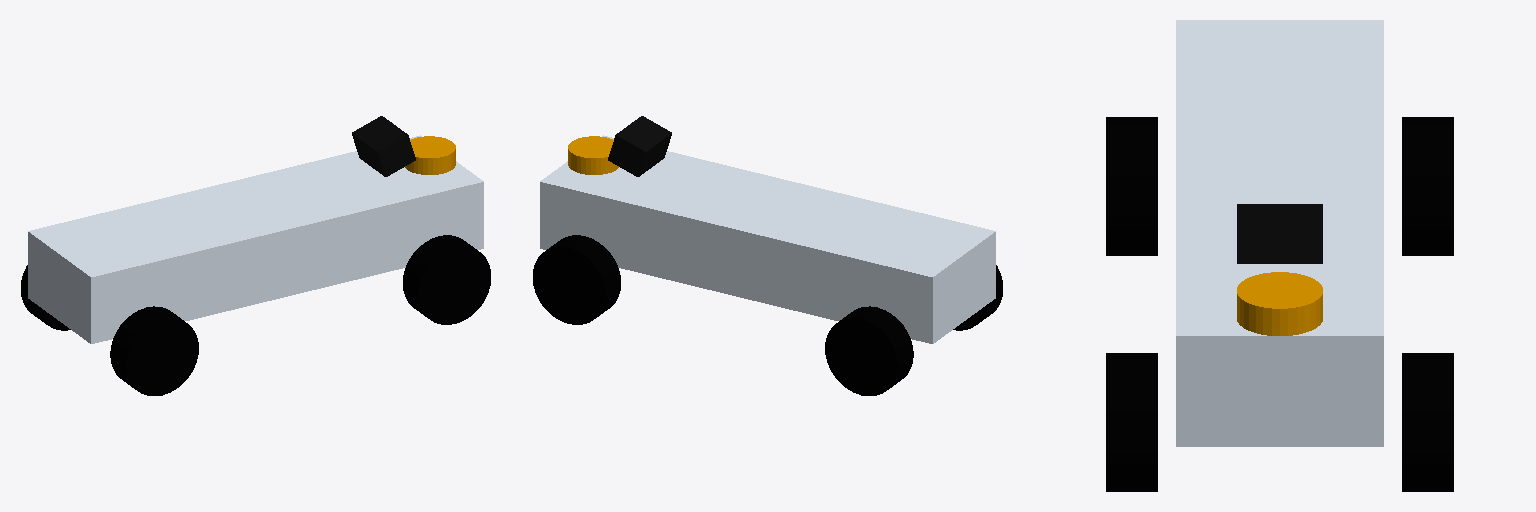
robot.urdf — team11_car:
<?xml version="1.0" ?>
<!-- =================================================================================== -->
<!-- |    This document was autogenerated by xacro from src/team/team_11/src/team11_race/urdf/car.urdf.xacro | -->
<!-- |    EDITING THIS FILE BY HAND IS NOT RECOMMENDED                                 | -->
<!-- =================================================================================== -->
<robot name="team11_car">
  <!-- base_link: 3D geometric center of the full vehicle AABB (0.085 m above ground). -->
  <link name="base_link"/>
  <joint name="body_joint" type="fixed">
    <parent link="base_link"/>
    <child link="body"/>
    <origin xyz="0 0 0"/>
  </joint>
  <link name="body">
    <visual>
      <geometry>
        <box size="0.43 0.12 0.07"/>
      </geometry>
      <material name="cool_off_white">
        <color rgba="0.902 0.941 0.980 1"/>
      </material>
    </visual>
    <collision>
      <geometry>
        <box size="0.43 0.12 0.07"/>
      </geometry>
    </collision>
    <inertial>
      <mass value="1.5"/>
      <inertia ixx="0.0024125" ixy="0" ixz="0" iyy="0.023725" iyz="0" izz="0.0249125"/>
    </inertial>
  </link>
  <link name="rear_left_wheel">
    <visual>
      <origin rpy="1.5707963268 0 0"/>
      <geometry>
        <cylinder length="0.03" radius="0.04"/>
      </geometry>
      <material name="black">
        <color rgba="0.02 0.02 0.02 1"/>
      </material>
    </visual>
    <collision>
      <origin rpy="1.5707963268 0 0"/>
      <geometry>
        <cylinder length="0.03" radius="0.04"/>
      </geometry>
    </collision>
    <inertial>
      <mass value="0.15"/>
      <inertia ixx="0.00007125" ixy="0" ixz="0" iyy="0.00012" iyz="0" izz="0.00007125"/>
    </inertial>
  </link>
  <gazebo reference="rear_left_wheel">
    <mu1>1.2</mu1>
    <mu2>1.0</mu2>
  </gazebo>
  <joint name="rear_left_wheel_joint" type="continuous">
    <parent link="base_link"/>
    <child link="rear_left_wheel"/>
    <origin xyz="-0.16 0.085 -0.045000000000000005"/>
    <axis xyz="0 1 0"/>
    <dynamics damping="0.0005"/>
  </joint>
  <link name="rear_right_wheel">
    <visual>
      <origin rpy="1.5707963268 0 0"/>
      <geometry>
        <cylinder length="0.03" radius="0.04"/>
      </geometry>
      <material name="black">
        <color rgba="0.02 0.02 0.02 1"/>
      </material>
    </visual>
    <collision>
      <origin rpy="1.5707963268 0 0"/>
      <geometry>
        <cylinder length="0.03" radius="0.04"/>
      </geometry>
    </collision>
    <inertial>
      <mass value="0.15"/>
      <inertia ixx="0.00007125" ixy="0" ixz="0" iyy="0.00012" iyz="0" izz="0.00007125"/>
    </inertial>
  </link>
  <gazebo reference="rear_right_wheel">
    <mu1>1.2</mu1>
    <mu2>1.0</mu2>
  </gazebo>
  <joint name="rear_right_wheel_joint" type="continuous">
    <parent link="base_link"/>
    <child link="rear_right_wheel"/>
    <origin xyz="-0.16 -0.085 -0.045000000000000005"/>
    <axis xyz="0 1 0"/>
    <dynamics damping="0.0005"/>
  </joint>
  <link name="front_left_steer">
    <inertial>
      <mass value="0.02"/>
      <inertia ixx="0.00001" ixy="0" ixz="0" iyy="0.00001" iyz="0" izz="0.00001"/>
    </inertial>
  </link>
  <joint name="front_left_steer_joint" type="revolute">
    <parent link="base_link"/>
    <child link="front_left_steer"/>
    <origin xyz="0.16 0.085 -0.045000000000000005"/>
    <axis xyz="0 0 1"/>
    <limit effort="10" lower="-0.5235987756" upper="0.5235987756" velocity="2"/>
    <dynamics damping="0.2"/>
  </joint>
  <link name="front_left_wheel">
    <visual>
      <origin rpy="1.5707963268 0 0"/>
      <geometry>
        <cylinder length="0.03" radius="0.04"/>
      </geometry>
      <material name="black">
        <color rgba="0.02 0.02 0.02 1"/>
      </material>
    </visual>
    <collision>
      <origin rpy="1.5707963268 0 0"/>
      <geometry>
        <cylinder length="0.03" radius="0.04"/>
      </geometry>
    </collision>
    <inertial>
      <mass value="0.15"/>
      <inertia ixx="0.00007125" ixy="0" ixz="0" iyy="0.00012" iyz="0" izz="0.00007125"/>
    </inertial>
  </link>
  <gazebo reference="front_left_wheel">
    <mu1>1.2</mu1>
    <mu2>1.0</mu2>
  </gazebo>
  <joint name="front_left_wheel_joint" type="continuous">
    <parent link="front_left_steer"/>
    <child link="front_left_wheel"/>
    <origin xyz="0 0 0"/>
    <axis xyz="0 1 0"/>
    <dynamics damping="0.0005"/>
  </joint>
  <link name="front_right_steer">
    <inertial>
      <mass value="0.02"/>
      <inertia ixx="0.00001" ixy="0" ixz="0" iyy="0.00001" iyz="0" izz="0.00001"/>
    </inertial>
  </link>
  <joint name="front_right_steer_joint" type="revolute">
    <parent link="base_link"/>
    <child link="front_right_steer"/>
    <origin xyz="0.16 -0.085 -0.045000000000000005"/>
    <axis xyz="0 0 1"/>
    <limit effort="10" lower="-0.5235987756" upper="0.5235987756" velocity="2"/>
    <dynamics damping="0.2"/>
  </joint>
  <link name="front_right_wheel">
    <visual>
      <origin rpy="1.5707963268 0 0"/>
      <geometry>
        <cylinder length="0.03" radius="0.04"/>
      </geometry>
      <material name="black">
        <color rgba="0.02 0.02 0.02 1"/>
      </material>
    </visual>
    <collision>
      <origin rpy="1.5707963268 0 0"/>
      <geometry>
        <cylinder length="0.03" radius="0.04"/>
      </geometry>
    </collision>
    <inertial>
      <mass value="0.15"/>
      <inertia ixx="0.00007125" ixy="0" ixz="0" iyy="0.00012" iyz="0" izz="0.00007125"/>
    </inertial>
  </link>
  <gazebo reference="front_right_wheel">
    <mu1>1.2</mu1>
    <mu2>1.0</mu2>
  </gazebo>
  <joint name="front_right_wheel_joint" type="continuous">
    <parent link="front_right_steer"/>
    <child link="front_right_wheel"/>
    <origin xyz="0 0 0"/>
    <axis xyz="0 1 0"/>
    <dynamics damping="0.0005"/>
  </joint>
  <link name="lidar_link">
    <visual>
      <geometry>
        <cylinder length="0.025" radius="0.025"/>
      </geometry>
    </visual>
    <collision>
      <geometry>
        <cylinder length="0.025" radius="0.025"/>
      </geometry>
    </collision>
    <inertial>
      <mass value="0.05"/>
      <inertia ixx="0.0000104167" ixy="0" ixz="0" iyy="0.0000104167" iyz="0" izz="0.000015625"/>
    </inertial>
  </link>
  <joint name="lidar_joint" type="fixed">
    <parent link="base_link"/>
    <child link="lidar_link"/>
    <origin xyz="0.190 0 0.040"/>
  </joint>
  <gazebo reference="lidar_link">
    <sensor name="front_lidar" type="gpu_lidar">
      <always_on>true</always_on>
      <update_rate>20</update_rate>
      <topic>/team_11/scan</topic>
      <gz_frame_id>team_11/lidar_link</gz_frame_id>
      <lidar>
        <scan>
          <horizontal>
            <samples>720</samples>
            <resolution>1</resolution>
            <min_angle>-3.14159265</min_angle>
            <max_angle>3.14159265</max_angle>
          </horizontal>
        </scan>
        <range>
          <min>0.05</min>
          <max>18.0</max>
          <resolution>0.01</resolution>
        </range>
      </lidar>
    </sensor>
  </gazebo>
  <link name="camera_link">
    <visual>
      <geometry>
        <box size="0.035 0.05 0.03"/>
      </geometry>
      <material name="dark">
        <color rgba="0.08 0.08 0.08 1"/>
      </material>
    </visual>
    <collision>
      <geometry>
        <box size="0.035 0.05 0.03"/>
      </geometry>
    </collision>
    <inertial>
      <mass value="0.04"/>
      <inertia ixx="0.000012" ixy="0" ixz="0" iyy="0.000008" iyz="0" izz="0.000013"/>
    </inertial>
  </link>
  <joint name="camera_joint" type="fixed">
    <parent link="base_link"/>
    <child link="camera_link"/>
    <origin rpy="0 -0.30 0" xyz="0.14 0 0.065"/>
  </joint>
  <gazebo reference="camera_link">
    <sensor name="front_camera" type="camera">
      <always_on>true</always_on>
      <update_rate>10</update_rate>
      <topic>/team_11/camera/image</topic>
      <gz_frame_id>team_11/camera_link</gz_frame_id>
      <camera>
        <horizontal_fov>1.0472</horizontal_fov>
        <image>
          <width>640</width>
          <height>480</height>
          <format>R8G8B8</format>
        </image>
        <clip>
          <near>0.05</near>
          <far>30</far>
        </clip>
      </camera>
    </sensor>
  </gazebo>
  <gazebo>
    <plugin filename="gz-sim-ackermann-steering-system" name="gz::sim::systems::AckermannSteering">
      <!-- 4-wheel drive (prevents front-wheel drag & rear-wheel slip) -->
      <left_joint>rear_left_wheel_joint</left_joint>
      <left_joint>front_left_wheel_joint</left_joint>
      <right_joint>rear_right_wheel_joint</right_joint>
      <right_joint>front_right_wheel_joint</right_joint>
      <!-- front wheel steering -->
      <left_steering_joint>front_left_steer_joint</left_steering_joint>
      <right_steering_joint>front_right_steer_joint</right_steering_joint>
      <!-- vehicle geometry -->
      <wheel_base>0.32</wheel_base>
      <wheel_separation>0.17</wheel_separation>
      <kingpin_width>0.17</kingpin_width>
      <wheel_radius>0.04</wheel_radius>
      <!-- steering limit: 30 deg -->
      <steering_limit>0.5235987756</steering_limit>
      <steer_p_gain>10</steer_p_gain>
      <!-- practice speed & acceleration limits -->
      <min_velocity>-1.0</min_velocity>
      <max_velocity>8.0</max_velocity>
      <min_acceleration>-10.0</min_acceleration>
      <max_acceleration>6.0</max_acceleration>
      <!-- Gazebo command topic -->
      <topic>/team_11/cmd_vel</topic>
      <!-- odometry / tf -->
      <odom_topic>/team_11/odom</odom_topic>
      <tf_topic>/team_11/tf</tf_topic>
      <frame_id>team_11/odom</frame_id>
      <child_frame_id>team_11/base_link</child_frame_id>
      <odom_publish_frequency>50</odom_publish_frequency>
    </plugin>
    <plugin filename="gz-sim-joint-state-publisher-system" name="gz::sim::systems::JointStatePublisher">
      <topic>/team_11/joint_states</topic>
    </plugin>
  </gazebo>
</robot>

--- Render facts (derived) ---
Views: 3 orthographic renders of the robot side by side, from view 1: azimuth 30°, elevation 25°; view 2: azimuth 150°, elevation 25°; view 3: azimuth 270°, elevation 25°.
Model team11_car with 10 links and 9 joints (2 revolute, 4 continuous, 3 fixed), rooted at base_link, posed every joint at zero.
Visible links, largest first — view 1: body, front_right_wheel, rear_right_wheel, camera_link, lidar_link, rear_left_wheel; view 2: body, front_left_wheel, rear_left_wheel, camera_link, lidar_link, rear_right_wheel; view 3: body, rear_left_wheel, rear_right_wheel, front_left_wheel, front_right_wheel, camera_link, lidar_link.
Link boxes in pixels (x1=…): body: x1=28, y1=135, x2=483, y2=343; front_right_wheel: x1=403, y1=235, x2=490, y2=324; rear_right_wheel: x1=110, y1=306, x2=198, y2=395; camera_link: x1=352, y1=116, x2=415, y2=176; lidar_link: x1=405, y1=136, x2=455, y2=174; rear_left_wheel: x1=21, y1=265, x2=70, y2=330; body: x1=540, y1=135, x2=995, y2=343; front_left_wheel: x1=533, y1=235, x2=620, y2=324; rear_left_wheel: x1=825, y1=306, x2=913, y2=395; camera_link: x1=608, y1=116, x2=671, y2=176; lidar_link: x1=568, y1=136, x2=618, y2=174; rear_right_wheel: x1=953, y1=265, x2=1002, y2=330; body: x1=1176, y1=20, x2=1383, y2=446; rear_left_wheel: x1=1402, y1=117, x2=1453, y2=255; rear_right_wheel: x1=1106, y1=117, x2=1157, y2=255; front_left_wheel: x1=1402, y1=353, x2=1453, y2=491; front_right_wheel: x1=1106, y1=353, x2=1157, y2=491; camera_link: x1=1237, y1=204, x2=1322, y2=263; lidar_link: x1=1237, y1=272, x2=1322, y2=335.
Size in the robot's own frame: 0.43 by 0.2 by 0.1695 metres.
Geometry: primitives only (box / cylinder / sphere), no mesh files.
